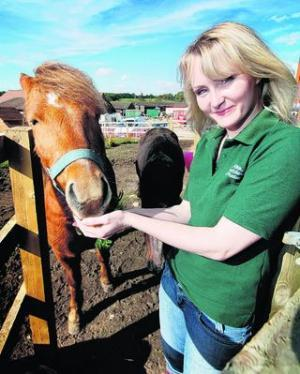person: (74, 23, 300, 374)
